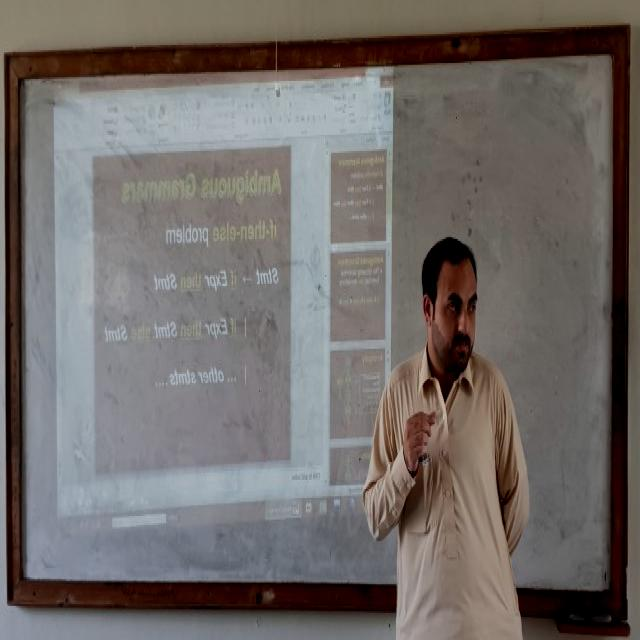Instructor: (393, 226, 525, 640)
Slide: (53, 62, 393, 534)
White-board: (11, 40, 619, 603)
